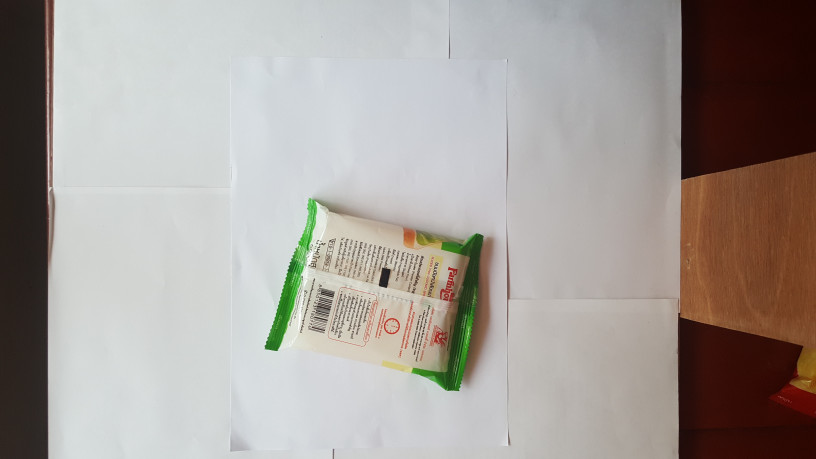farmhouse-bread-pandan: (253, 190, 495, 398)
